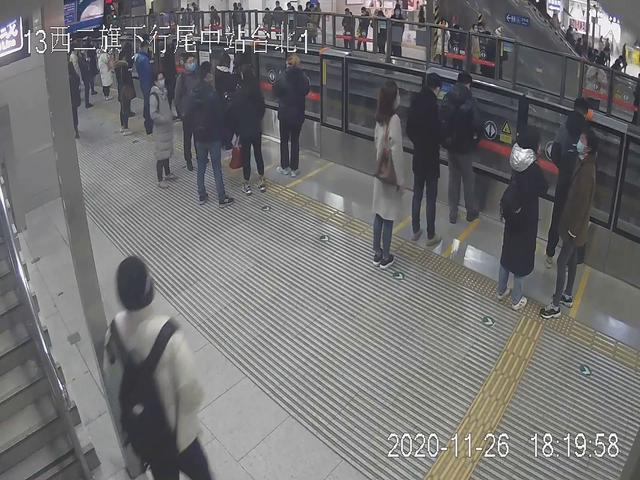person: (102, 253, 220, 480), (550, 128, 597, 318), (500, 121, 541, 316), (443, 60, 485, 220), (405, 69, 442, 244), (371, 79, 403, 269), (193, 62, 235, 201), (230, 66, 270, 197), (272, 55, 311, 175), (176, 54, 207, 172), (148, 72, 175, 181), (114, 50, 139, 134)
